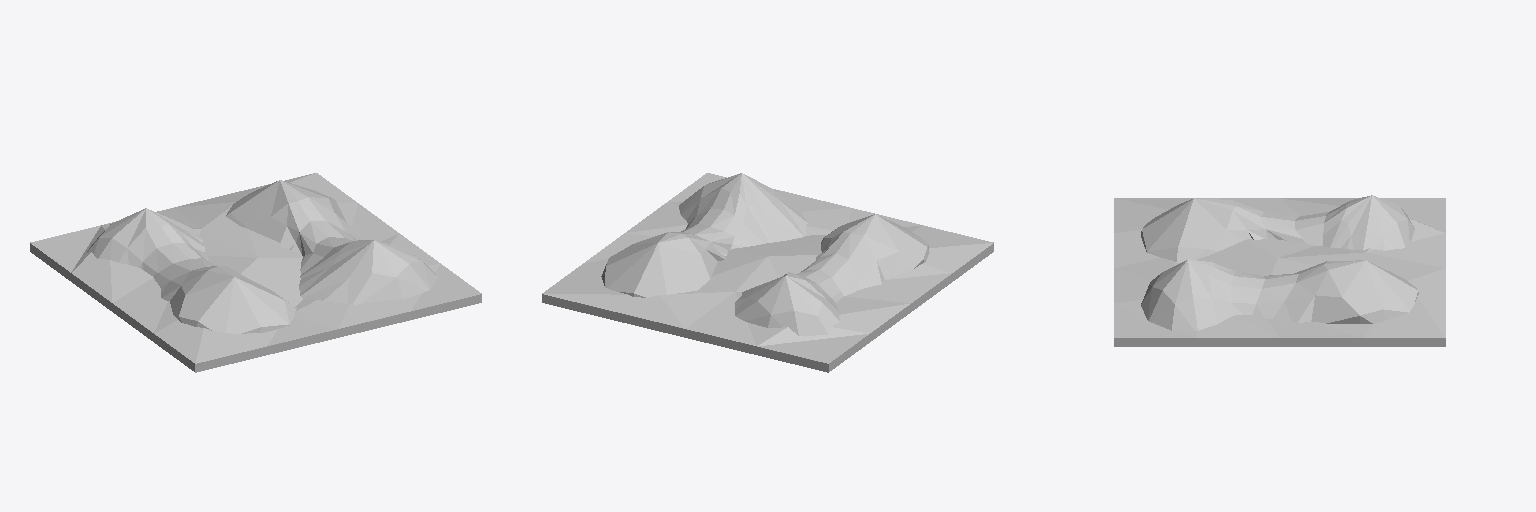
File: Garden.obj
3 renders of one model, left to right at view 1: azimuth 30°, elevation 25°; view 2: azimuth 150°, elevation 25°; view 3: azimuth 270°, elevation 25°, orthographic.
Visible parts, largest first — view 1: Cone.001; view 2: Cone.001; view 3: Cone.001.
Part boxes in pixels (x1,y1,x2,y2): Cone.001: (30, 173, 481, 372); Cone.001: (542, 173, 993, 372); Cone.001: (1114, 195, 1445, 346).
Bounding box in the file's own units: 2 × 0.4241 × 2.